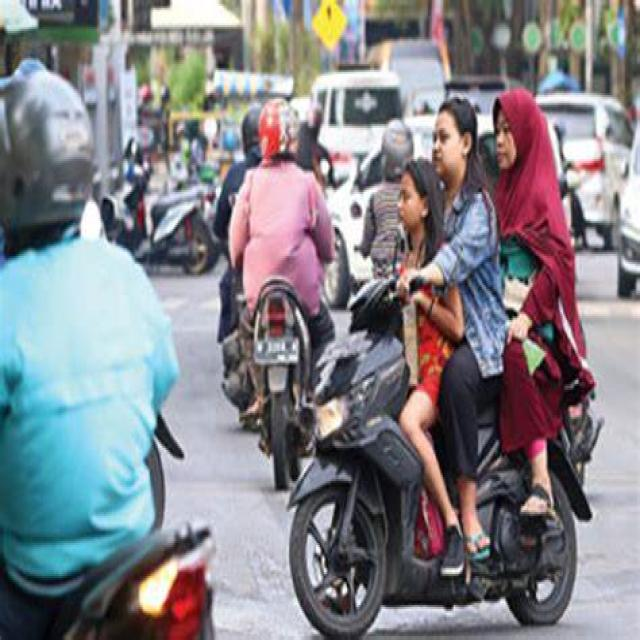Without Helmet: (429, 91, 476, 180), (492, 90, 541, 170), (394, 148, 439, 229)
